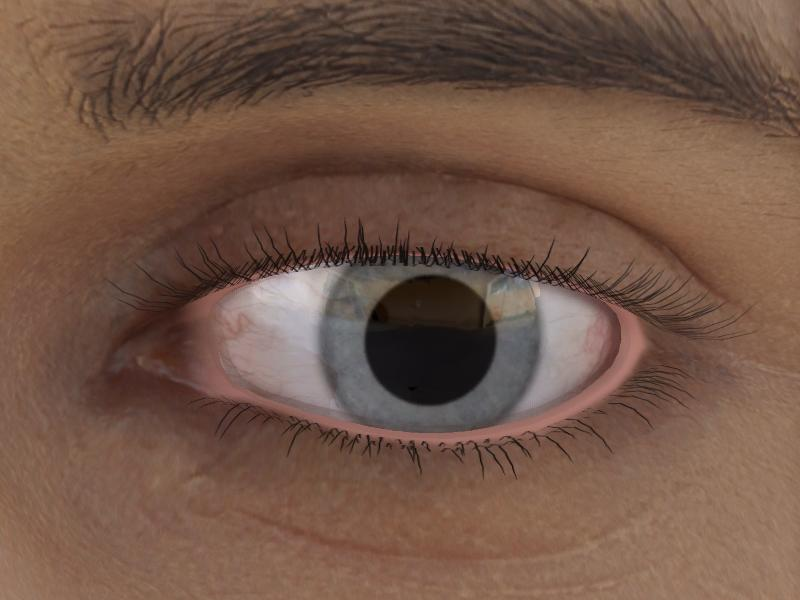eye: (319, 259, 547, 427)
